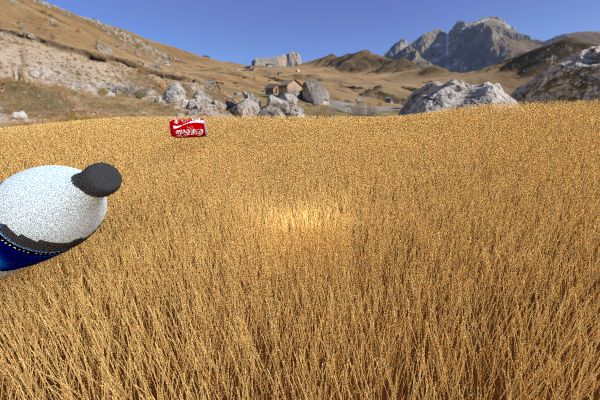bottle: (0, 161, 119, 282)
can: (323, 127, 392, 167), (200, 114, 235, 134)
